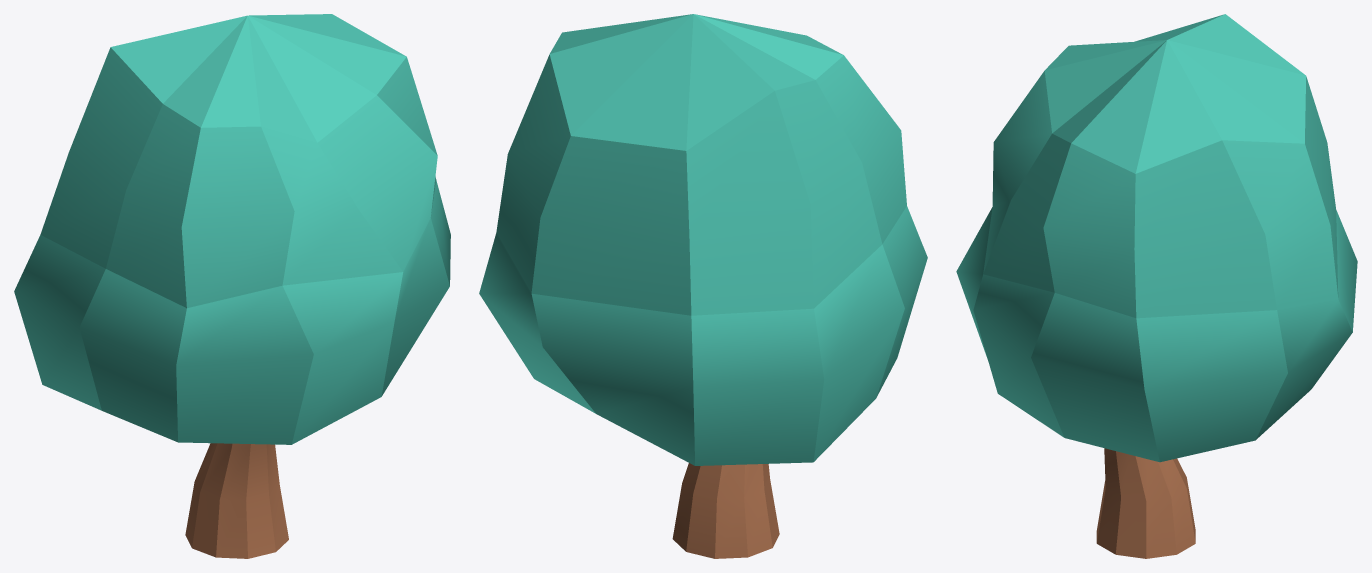
The model's file is tree02.fbx.
3 renders of one model, left to right at view 1: azimuth 30°, elevation 25°; view 2: azimuth 150°, elevation 25°; view 3: azimuth 270°, elevation 25°, orthographic. The views are drawn at different scales.
Visible parts, largest first — view 1: group2, pCylinder2; view 2: group2, pCylinder2; view 3: group2, pCylinder2.
Part boxes in pixels (left/top/right/bottom): group2: left=14, top=14, right=450, bottom=444; pCylinder2: left=185, top=443, right=288, bottom=558; group2: left=479, top=14, right=927, bottom=465; pCylinder2: left=672, top=463, right=779, bottom=558; group2: left=956, top=14, right=1357, bottom=462; pCylinder2: left=1096, top=448, right=1195, bottom=558.
Size of the model in its own units: 558 by 718 by 515.
